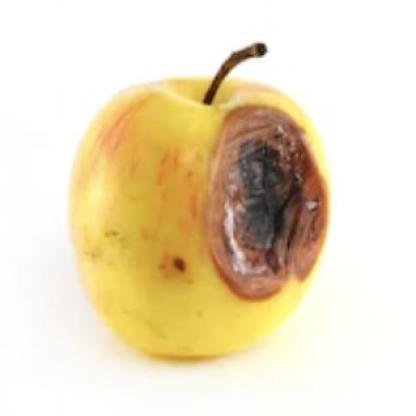apple_rotten: (60, 34, 338, 366)
